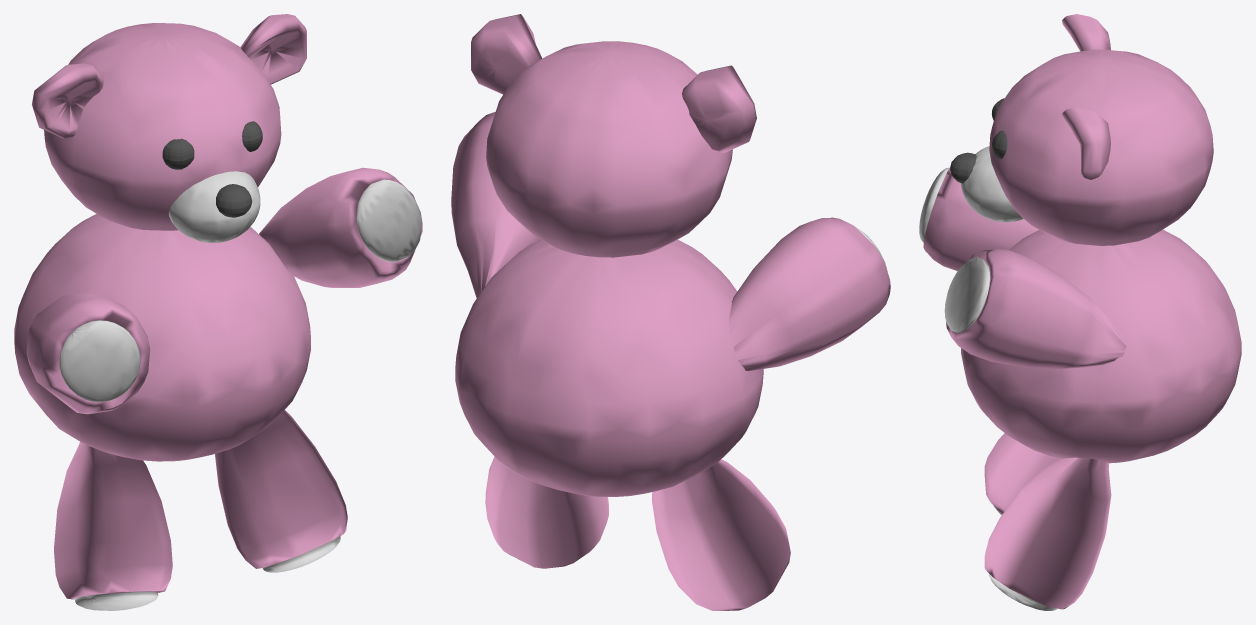
File: Bear.fbx
3 renders of one model, left to right at view 1: azimuth 30°, elevation 25°; view 2: azimuth 150°, elevation 25°; view 3: azimuth 270°, elevation 25°, orthographic. The views are drawn at different scales.
Visible parts, largest first — view 1: Bear01; view 2: Bear01; view 3: Bear01.
Part boxes in pixels (x1=…): Bear01: x1=14, y1=14, x2=422, y2=610; Bear01: x1=451, y1=14, x2=890, y2=610; Bear01: x1=919, y1=14, x2=1241, y2=610.
Bounding box in the file's own units: 3.74 × 4.89 × 2.84.
